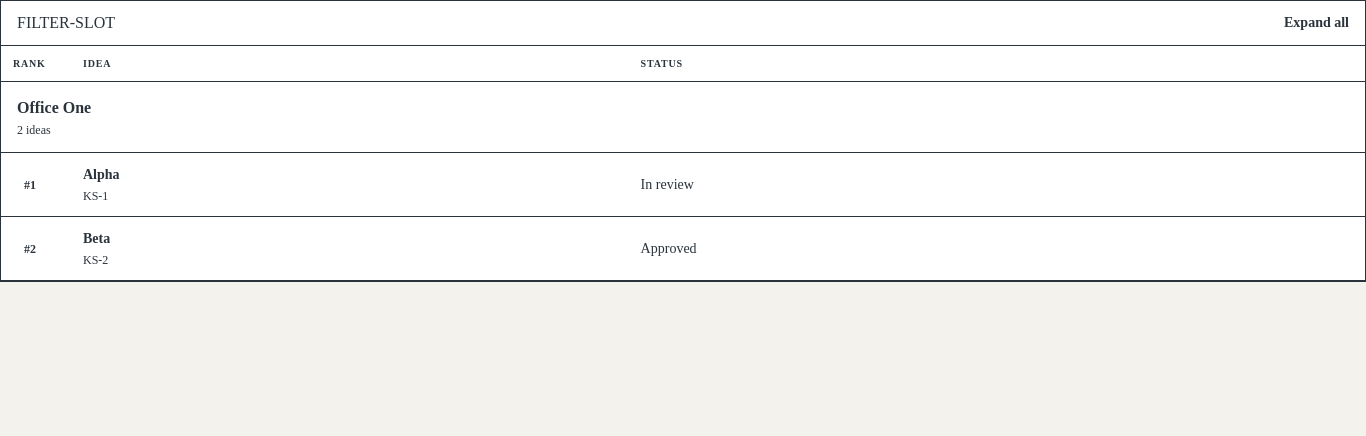
Scenario: K5 RankedTable › Expand all opens every row, then collapses
The width and height of the screenshot is (1366, 436).
Later steps or results of the test are not shown.
Click the button "Expand all".
click(1316, 23)  # box [1284,13,1349,33]
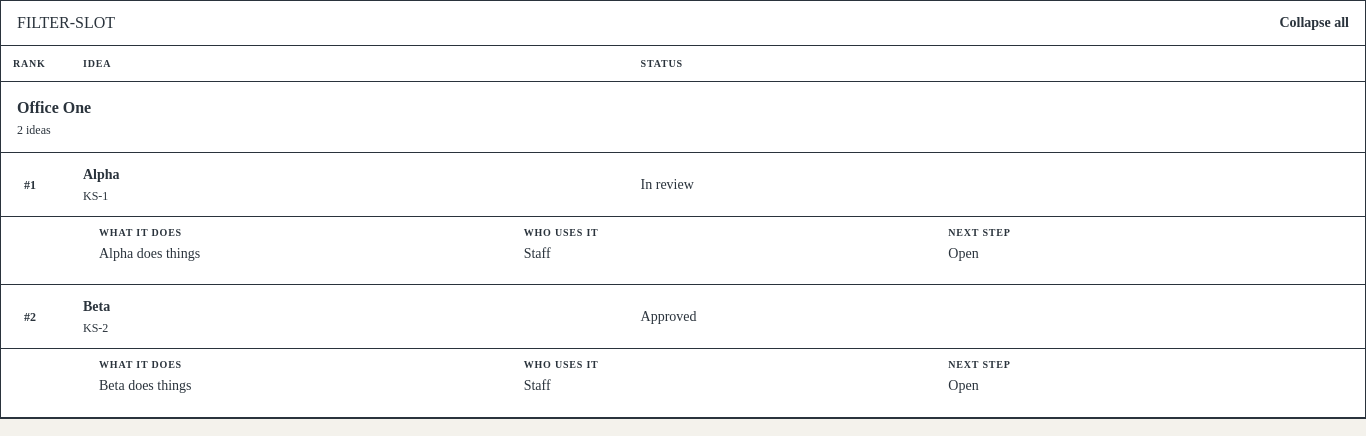
expect the button "Collapse all" is shown: met, box [1279,13,1349,33]
